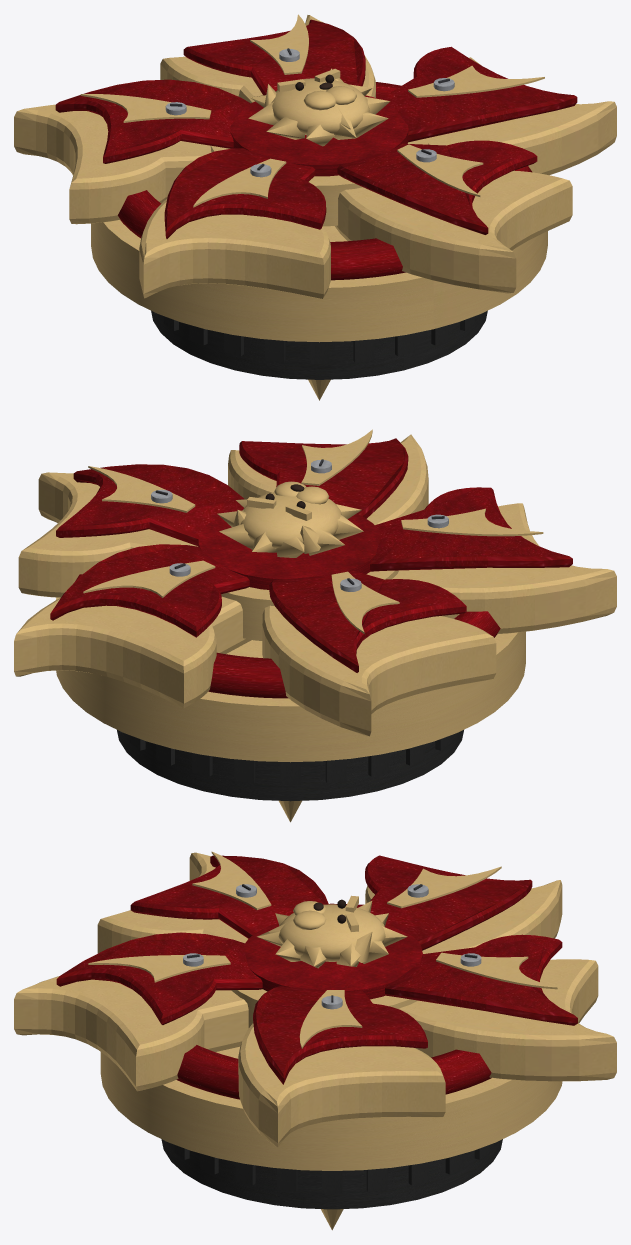
File: flame.glb
3 renders of one model, top to bottom at view 1: azimuth 30°, elevation 25°; view 2: azimuth 150°, elevation 25°; view 3: azimuth 270°, elevation 25°, orthographic. The views are drawn at different scales.
Parts seen in each view (by area): view 1: part-27, part-49, part-44, part-39, part-1, part-50, part-40, part-45, part-30, part-29, part-35, part-55 (+9 smaller); view 2: part-27, part-39, part-34, part-44, part-1, part-35, part-45, part-40, part-30, part-29, part-50, part-55 (+9 smaller); view 3: part-27, part-29, part-49, part-34, part-1, part-35, part-50, part-30, part-40, part-45, part-55, part-28 (+9 smaller).
Part boxes in pixels (<box>): part-27: <box>91,220,547,342</box>; part-49: <box>335,170,572,293</box>; part-44: <box>139,199,330,298</box>; part-39: <box>14,104,211,224</box>; part-1: <box>151,310,487,379</box>; part-50: <box>337,140,537,234</box>; part-40: <box>55,79,250,163</box>; part-45: <box>164,148,326,238</box>; part-30: <box>379,46,577,142</box>; part-29: <box>428,57,616,175</box>; part-35: <box>183,19,365,95</box>; part-55: <box>230,95,408,176</box>; part-27: <box>56,597,525,762</box>; part-39: <box>262,605,496,736</box>; part-34: <box>14,596,251,708</box>; part-44: <box>392,503,616,633</box>; part-1: <box>117,730,463,801</box>; part-35: <box>50,544,249,637</box>; part-45: <box>370,487,572,571</box>; part-40: <box>269,571,466,672</box>; part-30: <box>56,464,243,545</box>; part-29: <box>18,472,181,597</box>; part-50: <box>239,438,408,518</box>; part-55: <box>198,507,380,589</box>; part-27: <box>100,1046,562,1170</box>; part-29: <box>238,1023,445,1147</box>; part-49: <box>14,976,248,1091</box>; part-34: <box>399,959,616,1081</box>; part-1: <box>161,1139,502,1209</box>; part-35: <box>385,934,577,1025</box>; part-50: <box>56,932,262,1024</box>; part-30: <box>253,986,427,1084</box>; part-40: <box>365,855,532,950</box>; part-45: <box>130,855,328,938</box>; part-55: <box>243,923,422,999</box>; part-28: <box>176,903,491,1099</box>.
Size of the model in its own units: 1.2 by 0.716 by 1.2.
Materials: 77 (69 with a texture image).
